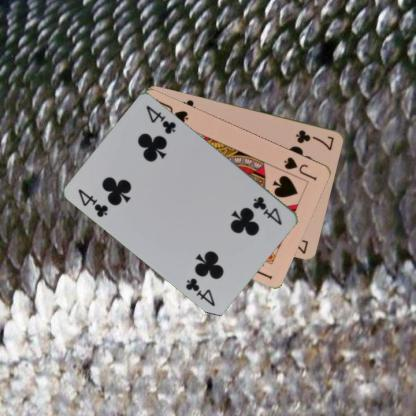4c: (250, 193, 284, 226), (76, 186, 110, 219)
7c: (293, 127, 336, 151)
Js: (282, 154, 318, 182)
